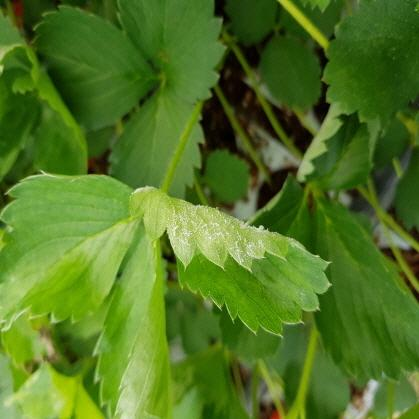Powdery Mildew Leaf: (126, 184, 333, 337)
